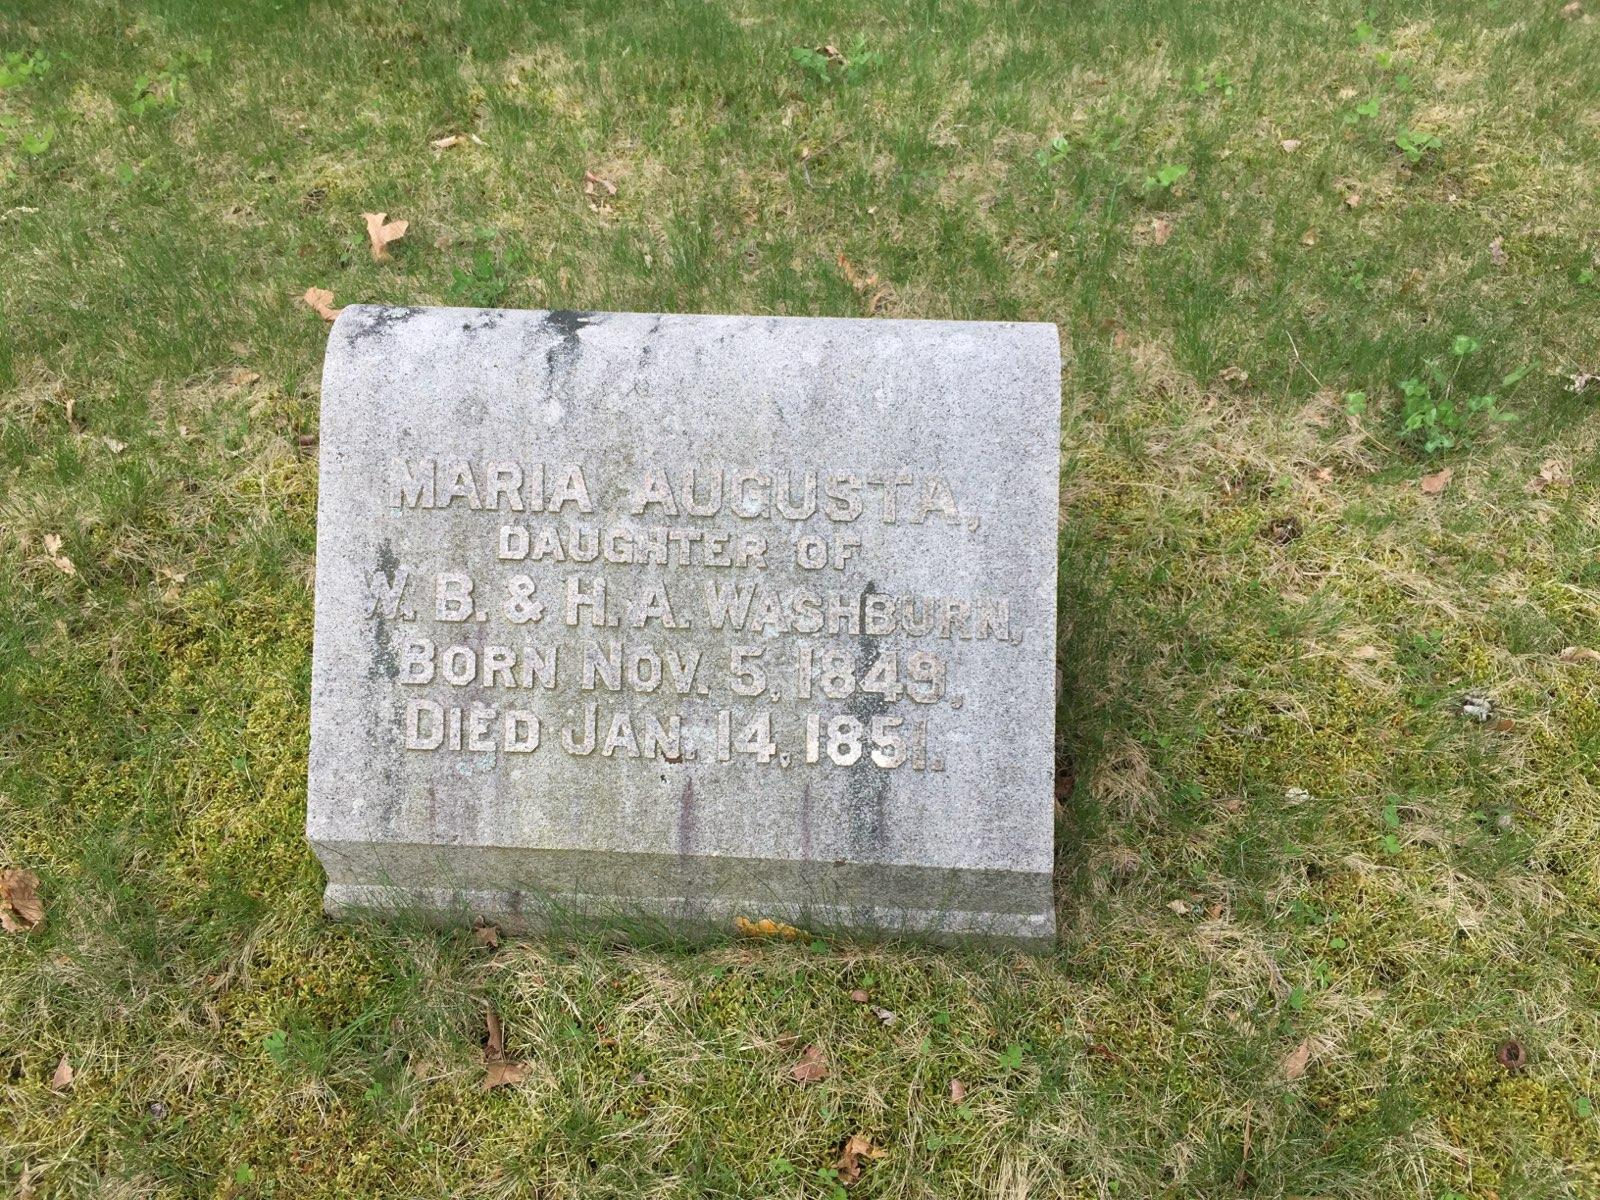slant: (312, 304, 1065, 949)
